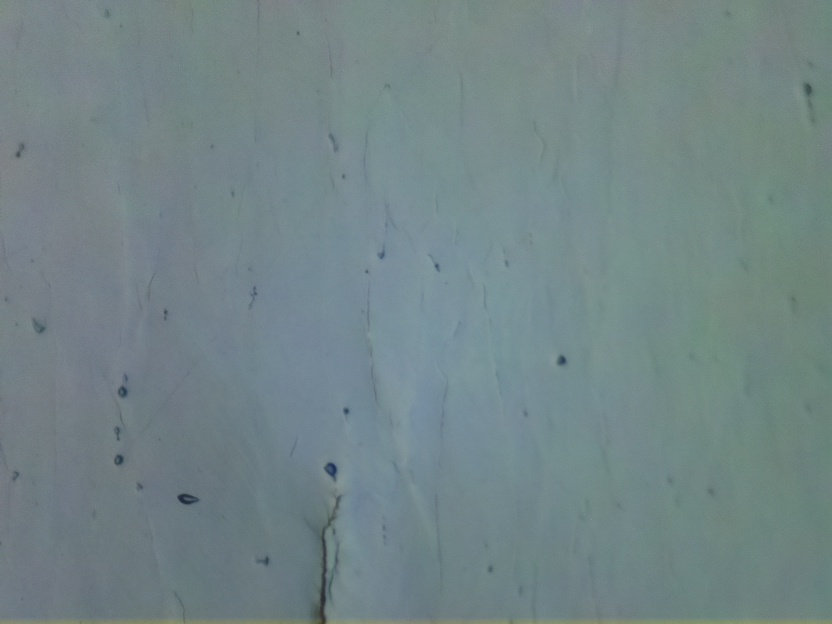crack: (308, 497, 346, 624)
